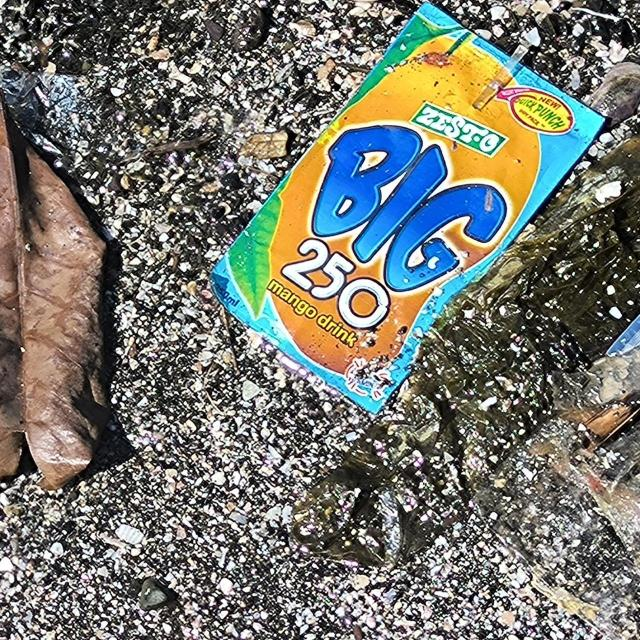plastic_waste: (207, 0, 609, 418)
